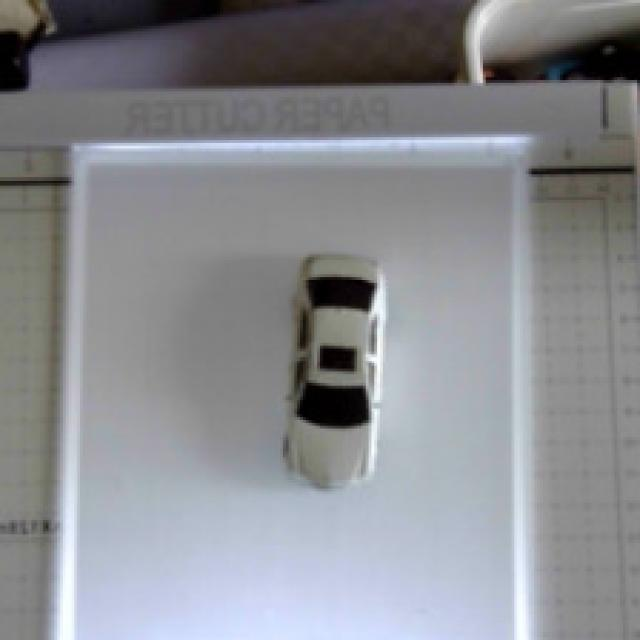Grey Car: (255, 227, 425, 520)
